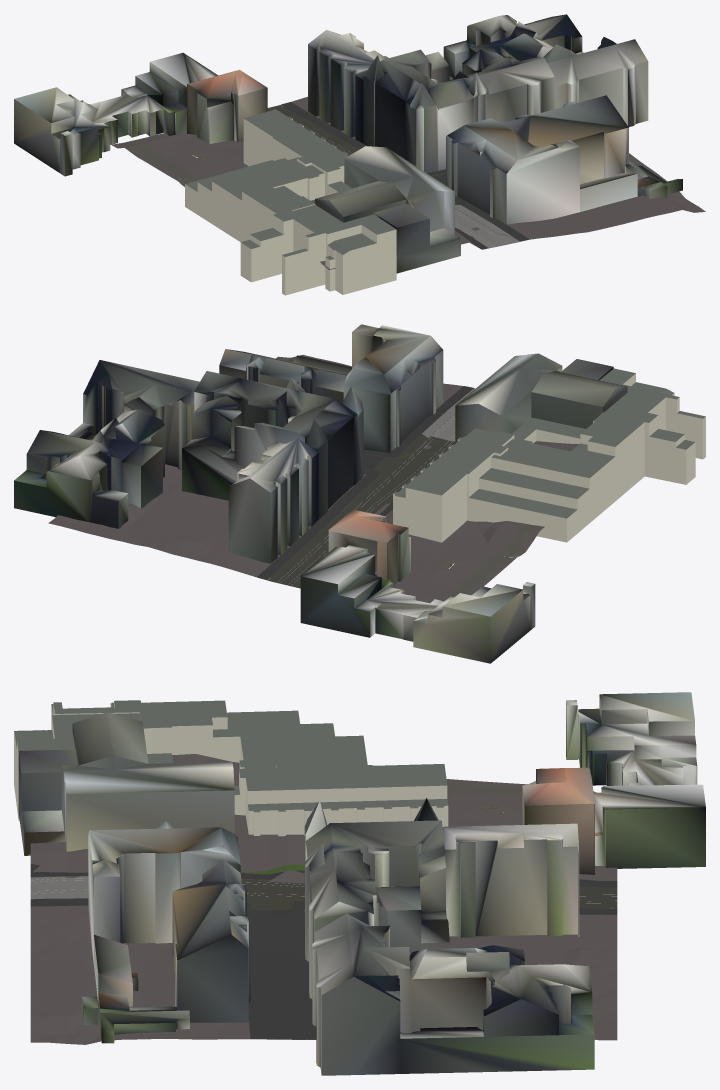
3 renders of one model, top to bottom at view 1: azimuth 30°, elevation 25°; view 2: azimuth 150°, elevation 25°; view 3: azimuth 270°, elevation 25°, orthographic. The views are drawn at different scales.
Parts seen in each view (by area): view 1: c_p00_m03; view 2: c_p00_m03; view 3: c_p00_m03.
Boxes of the visible parts, bbox=[...] form: c_p00_m03: bbox=[14, 14, 705, 295]; c_p00_m03: bbox=[14, 324, 705, 663]; c_p00_m03: bbox=[14, 692, 705, 1075].
Bounding box in the file's own units: 169 × 31.18 × 151.
